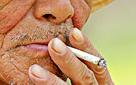smoke: (57, 41, 106, 68)
